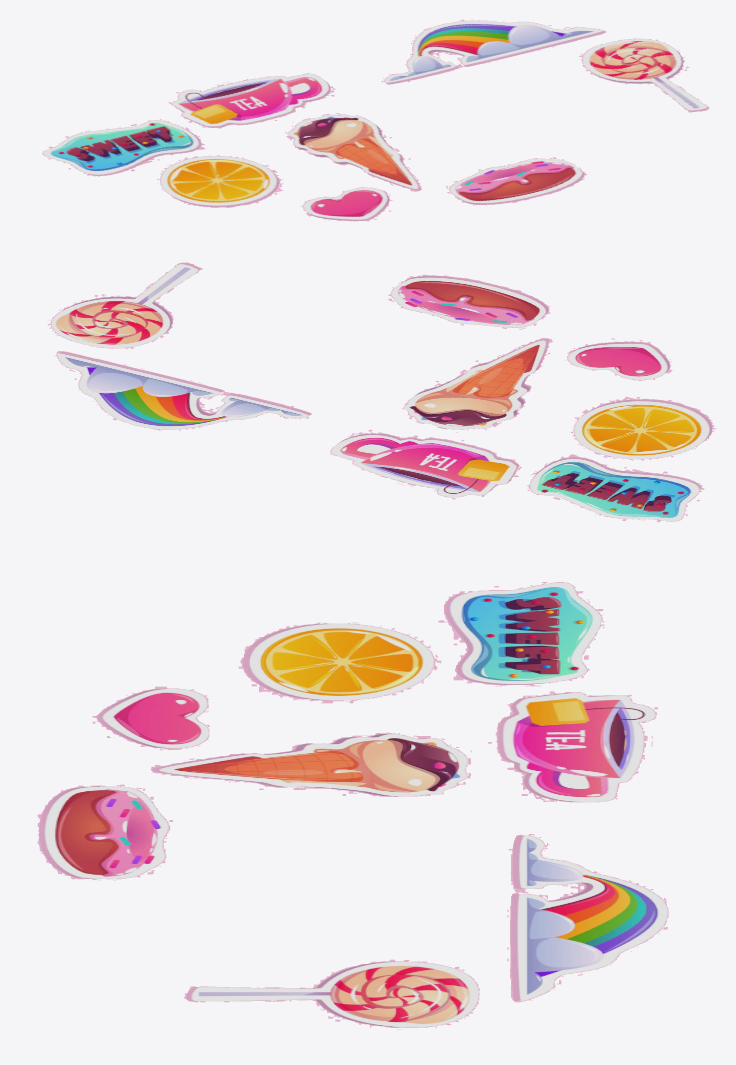
The model's file is sticker.fbx.
The picture shows the model from 3 angles, top to bottom: view 1: azimuth 30°, elevation 25°; view 2: azimuth 150°, elevation 25°; view 3: azimuth 270°, elevation 25°; orthographic projection. The views are drawn at different scales.
Parts seen in each view (by area): view 1: s1, s5, s3, s7, s6, s2, s4, s8; view 2: s1, s5, s3, s7, s6, s2, s4, s8; view 3: s1, s5, s3, s7, s6, s2, s4, s8.
Boxes of the visible parts, box(x1,y1,x2,y2) form: s1: box(381, 19, 606, 84); s5: box(168, 72, 335, 128); s3: box(42, 119, 205, 176); s7: box(285, 113, 421, 191); s6: box(157, 155, 283, 208); s2: box(579, 38, 709, 112); s4: box(446, 157, 586, 205); s8: box(300, 186, 392, 221); s1: box(54, 351, 311, 430); s5: box(329, 429, 521, 499); s3: box(527, 454, 704, 522); s7: box(402, 338, 553, 430); s6: box(570, 396, 715, 460); s2: box(47, 262, 202, 349); s4: box(388, 274, 550, 329); s8: box(565, 338, 672, 381); s1: box(507, 834, 668, 1002); s5: box(470, 691, 657, 802); s3: box(438, 582, 604, 686); s7: box(150, 732, 470, 796); s6: box(238, 622, 441, 703); s2: box(184, 959, 480, 1029); s4: box(37, 784, 172, 880); s8: box(92, 686, 209, 750).
Size of the model in its own units: 5139 by 0 by 3186.
1 material, 1 textured.
